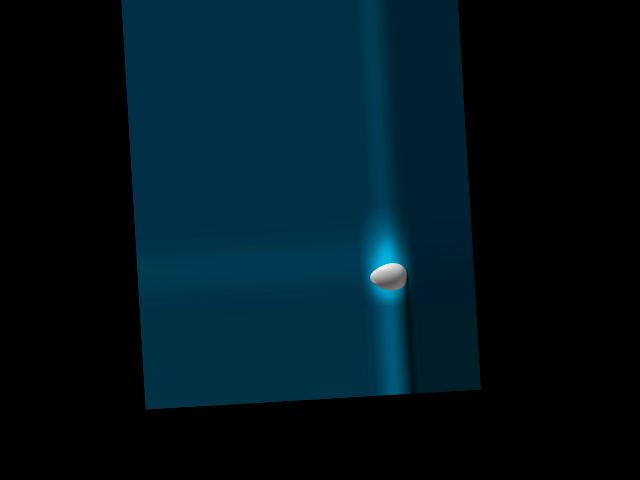egg: (369, 262, 408, 292)
